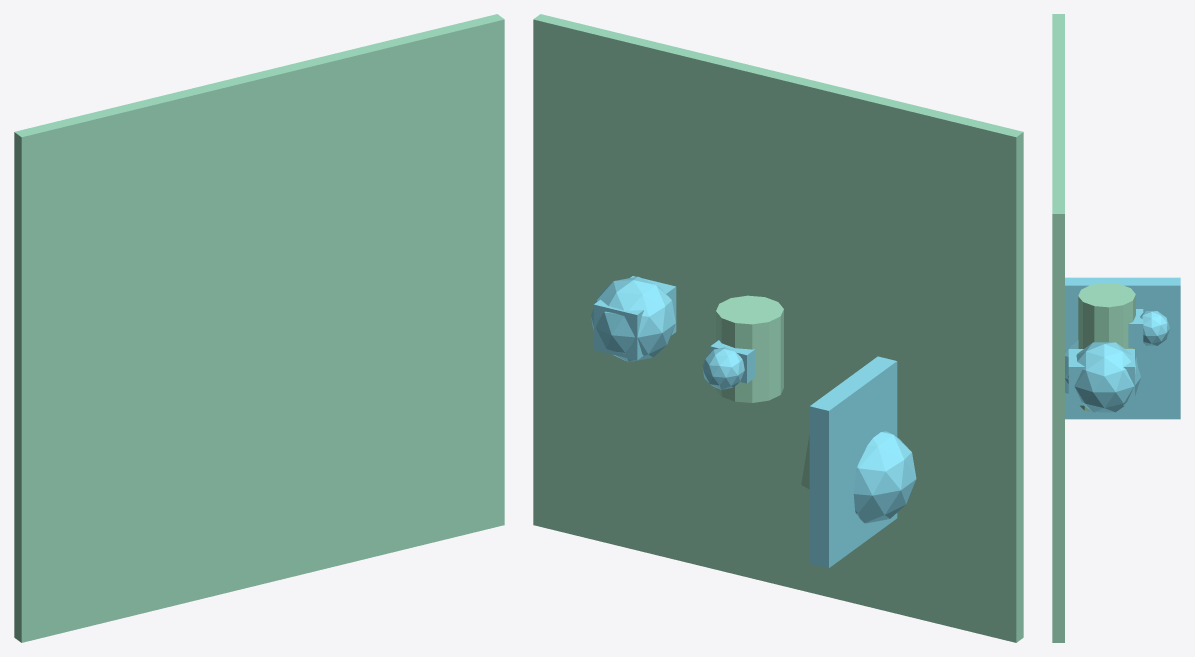
File: farmstead-seasons-kit.glb
3 renders of one model, left to right at view 1: azimuth 30°, elevation 25°; view 2: azimuth 150°, elevation 25°; view 3: azimuth 270°, elevation 25°, orthographic. The views are drawn at different scales.
Parts seen in each view (by area): view 1: ENVIRONMENT_GROUND; view 2: ENVIRONMENT_GROUND, ENVIRONMENT_PANEL, PLAYER_BODY, OBSTACLE, PROFILE_ENVIRONMENT_DETAIL, PROFILE_OBSTACLE_DETAIL, PLAYER_CORE; view 3: ENVIRONMENT_GROUND, ENVIRONMENT_PANEL, OBSTACLE, PLAYER_BODY, PROFILE_OBSTACLE_DETAIL, PLAYER_CORE, PROFILE_PLAYER_DETAIL, PROFILE_ENVIRONMENT_DETAIL.
Part boxes in pixels (x1,y1,x2,y2): ENVIRONMENT_GROUND: (14, 14, 504, 642); ENVIRONMENT_GROUND: (533, 14, 1023, 642); ENVIRONMENT_PANEL: (809, 356, 897, 568); PLAYER_BODY: (716, 295, 783, 402); OBSTACLE: (591, 276, 675, 362); PROFILE_ENVIRONMENT_DETAIL: (853, 431, 916, 523); PROFILE_OBSTACLE_DETAIL: (593, 276, 676, 360); PLAYER_CORE: (702, 347, 744, 389); ENVIRONMENT_GROUND: (1052, 14, 1064, 642); ENVIRONMENT_PANEL: (1065, 277, 1180, 419); OBSTACLE: (1067, 342, 1140, 412); PLAYER_BODY: (1078, 283, 1135, 360); PROFILE_OBSTACLE_DETAIL: (1068, 349, 1134, 405); PLAYER_CORE: (1140, 311, 1169, 345); PROFILE_PLAYER_DETAIL: (1128, 309, 1143, 347); PROFILE_ENVIRONMENT_DETAIL: (1065, 340, 1137, 395).
Size of the model in its own units: 9 by 9 by 2.44.
